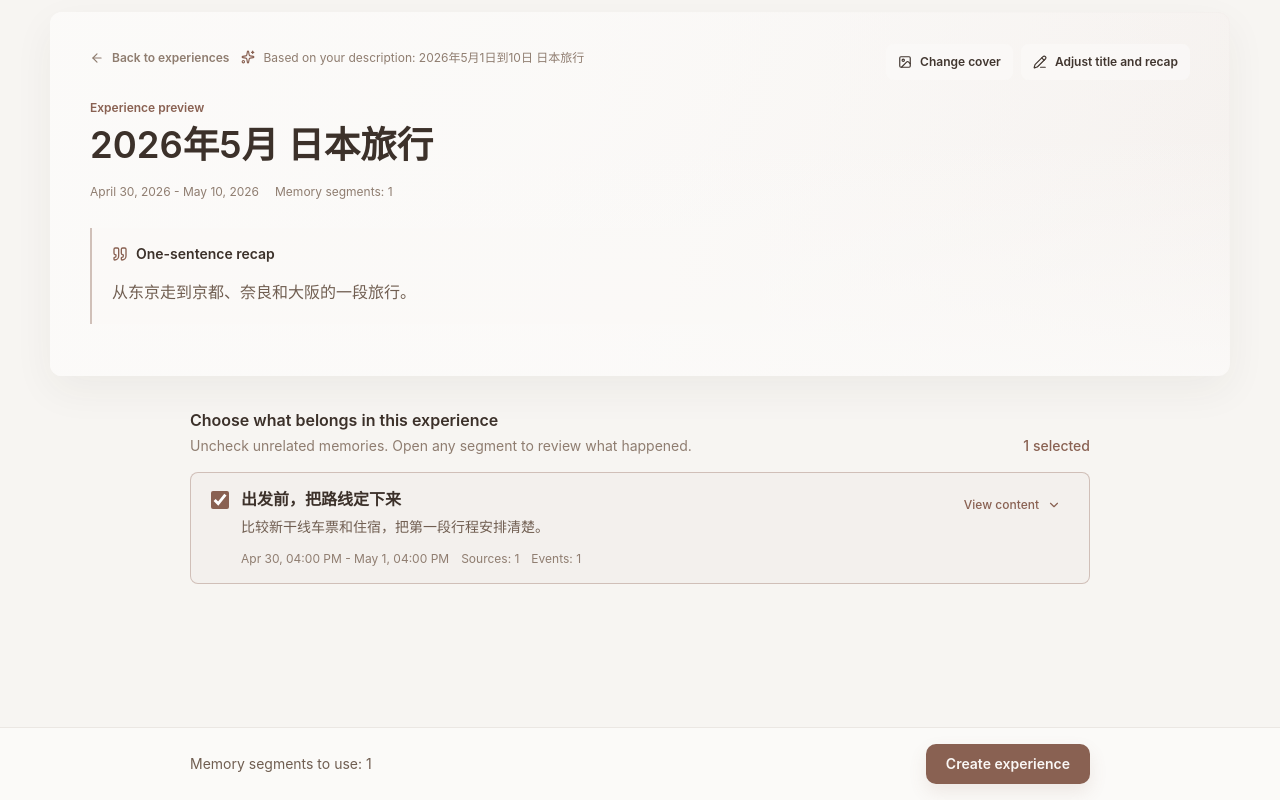
MemoryEpisodesPage › merges duplicate event fields and keeps the readable direct copy
Click the button "View content" at (1012, 505), box top-left (956, 489), bottom-right (1069, 521)
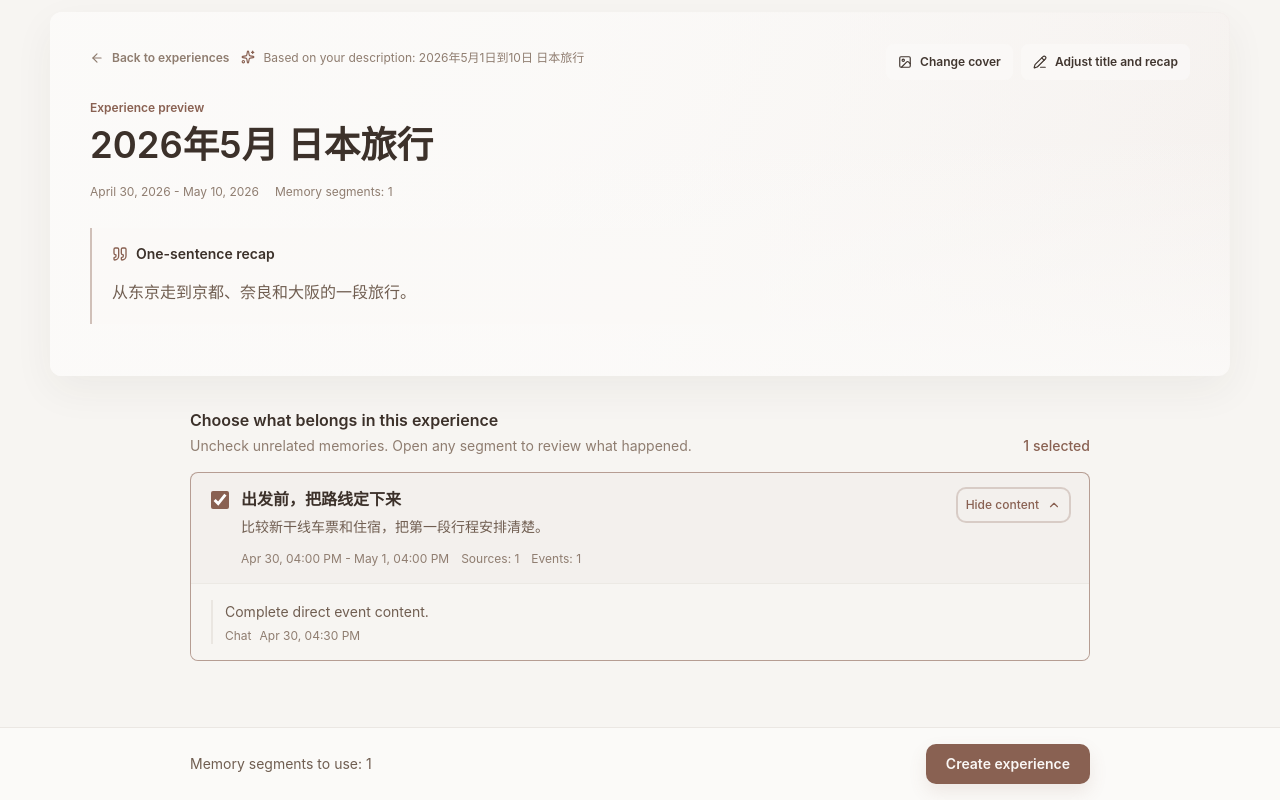
Expected: the text "Complete direct event content." is shown, top-left (225, 603), bottom-right (429, 620)
Expected: the text "Chat" is shown, top-left (225, 628), bottom-right (252, 644)
Expected: the number of list items is 1, top-left (211, 600), bottom-right (1069, 644)
